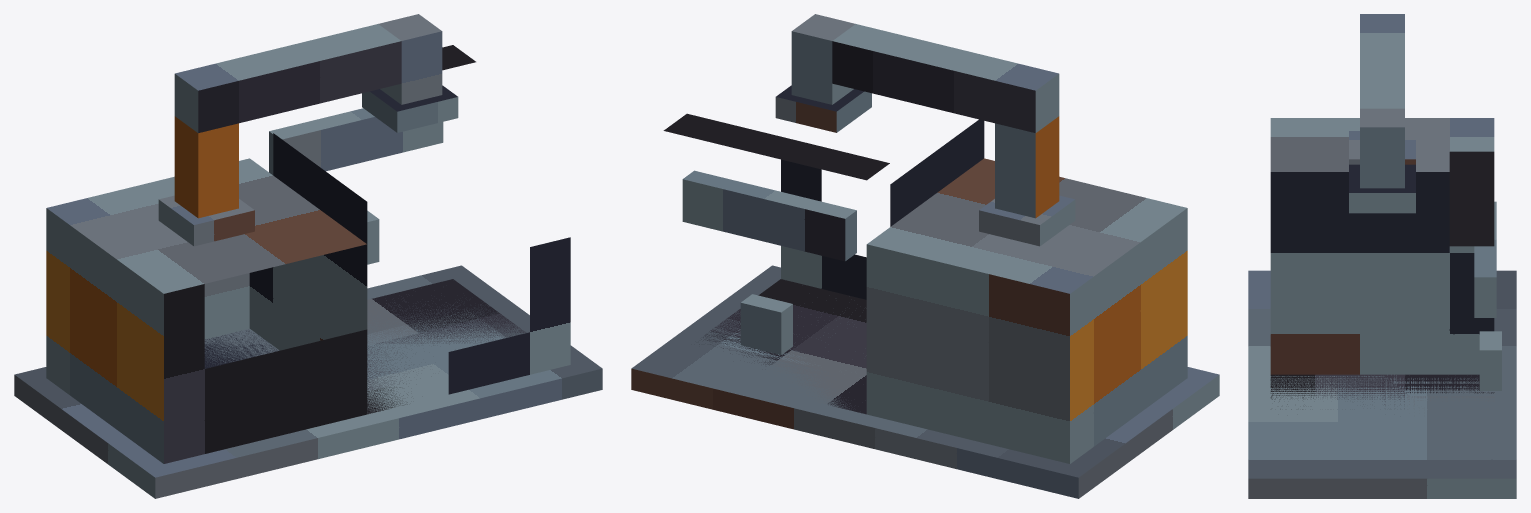
File: fuel_extractor.obj
The picture shows the model from 3 angles, left to right: view 1: azimuth 30°, elevation 25°; view 2: azimuth 150°, elevation 25°; view 3: azimuth 270°, elevation 25°; orthographic projection. The views are drawn at different scales.
Visible parts, largest first — view 1: workstation; view 2: workstation; view 3: workstation.
Boxes of the visible parts, x1=… form: workstation: x1=14, y1=14, x2=602, y2=498; workstation: x1=631, y1=14, x2=1219, y2=498; workstation: x1=1248, y1=14, x2=1516, y2=498.
Size of the model in its own units: 1.15 by 0.84 by 0.63.
